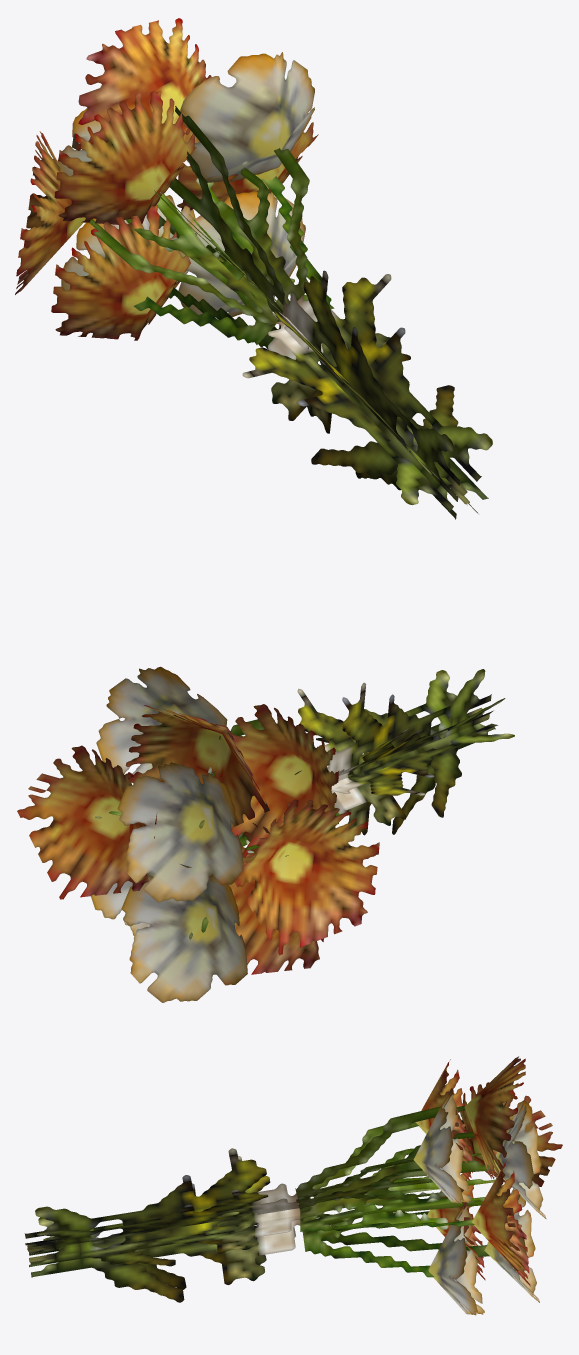
The model's file is flowersbunch03.obj.
3 renders of one model, top to bottom at view 1: azimuth 30°, elevation 25°; view 2: azimuth 150°, elevation 25°; view 3: azimuth 270°, elevation 25°, orthographic. The views are drawn at different scales.
Visible parts, largest first — view 1: flowersbunch03; view 2: flowersbunch03; view 3: flowersbunch03.
Part boxes in pixels (left/top/right/bottom): flowersbunch03: left=15, top=18, right=492, bottom=519; flowersbunch03: left=17, top=666, right=514, bottom=1002; flowersbunch03: left=24, top=1056, right=562, bottom=1315.
Size of the model in its own units: 0.4728 by 0.4535 by 0.851.
1 material, 1 textured.
